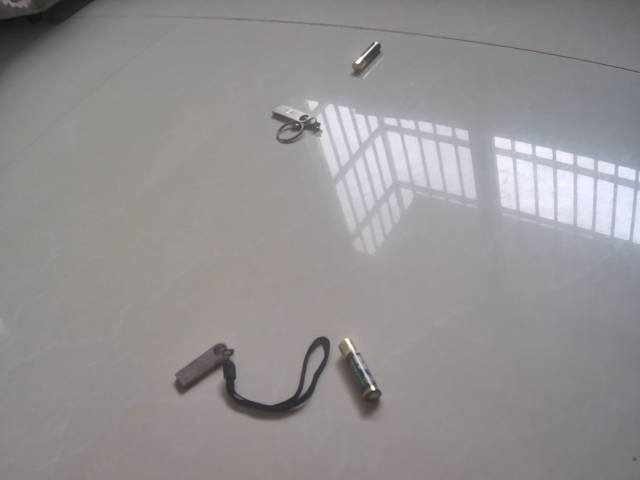U-disk: (166, 333, 333, 418), (266, 101, 325, 147)
battery: (335, 333, 385, 409), (346, 36, 387, 78)
